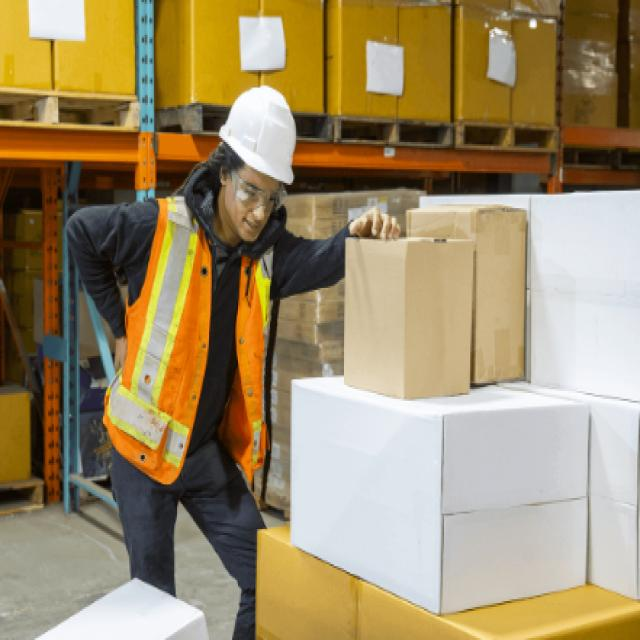hard_hat: (210, 82, 302, 250)
vest: (95, 189, 282, 502)
